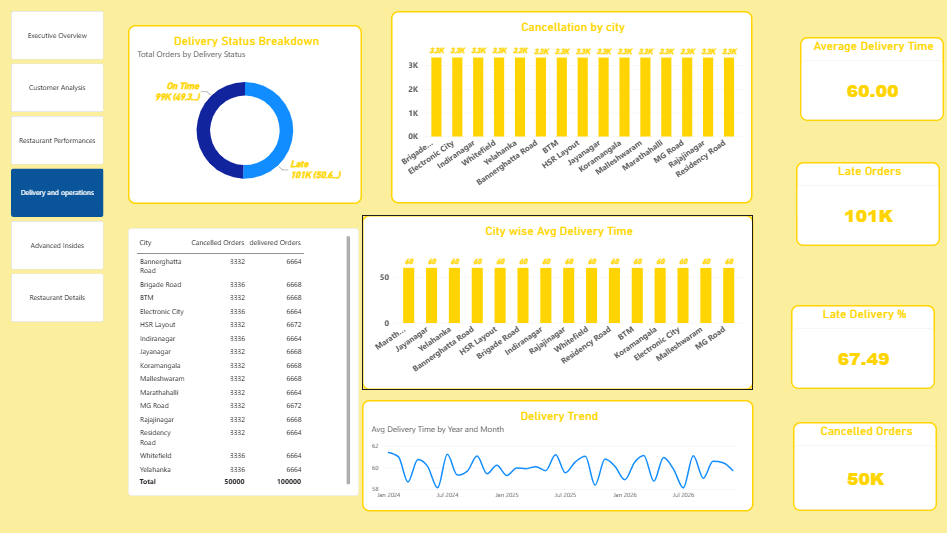

The dashboard page shown, as its layout file describes it:
{"tool":"powerbi","page":{"name":"Delivery  and operations","canvas":[1920,1080],"ordinal":3},"visuals":[{"type":"cardVisual","title":"Average Delivery Time","fields":{"Data":["Orders.Avg Delivery Time"]},"box":[1603.3,73.3,288.3,168.3],"z":0},{"type":"cardVisual","title":"Cancelled Orders","fields":{"Data":["Orders.Cancelled Orders"]},"box":[1590,843.3,288.3,178.3],"z":1000},{"type":"cardVisual","title":"Late Delivery %","fields":{"Data":["Orders.Late Delivery %"]},"box":[1586.7,610,288.3,168.3],"z":2000},{"type":"cardVisual","title":"Late Orders","fields":{"Data":["Orders.Late Orders"]},"box":[1596.7,323.3,288,168],"z":3000},{"type":"pieChart","title":"Delivery Status Breakdown","fields":{"Category":["Orders.Delivery Status"],"Y":["Orders.Total Orders"]},"box":[260,50,467.5,357.5],"z":4000},{"type":"clusteredColumnChart","title":"Cancellation by city","fields":{"Category":["Customers.City"],"Y":["Orders.Cancelled Orders"]},"box":[785,22.5,722.5,385],"z":5000},{"type":"tableEx","fields":{"Values":["Customers.City","Orders.Cancelled Orders","Orders.delivered Orders"]},"box":[260,455,462,536],"z":6000},{"type":"lineChart","title":"Delivery Trend","fields":{"Category":["DateTable.Date.Variation.Date Hierarchy.Year","DateTable.Date.Variation.Date Hierarchy.Month"],"Y":["Orders.Avg Delivery Time"]},"box":[727.5,800,782.5,222.5],"z":7000},{"type":"clusteredColumnChart","title":"City wise Avg Delivery Time","fields":{"Category":["Customers.City"],"Y":["Orders.Avg Delivery Time"]},"box":[727.5,430,782.5,350],"z":8000},{"type":"pageNavigator","box":[25,22.5,185,625],"z":8001}]}

Visuals, with their boxes on the page's 1920x1080 design canvas (x1, y1, x2, y2). These are canvas units, not pixel positions in the 947x533 screenshot, which may show the page scaled, cropped or inside an application window:
"Average Delivery Time" cardVisual: bbox=(1603, 73, 1892, 242)
"Cancelled Orders" cardVisual: bbox=(1590, 843, 1878, 1022)
"Late Delivery %" cardVisual: bbox=(1587, 610, 1875, 778)
"Late Orders" cardVisual: bbox=(1597, 323, 1885, 491)
"Delivery Status Breakdown" pieChart: bbox=(260, 50, 728, 408)
"Cancellation by city" clusteredColumnChart: bbox=(785, 22, 1508, 408)
tableEx - Customers.City x Orders.Cancelled Orders: bbox=(260, 455, 722, 991)
"Delivery Trend" lineChart: bbox=(728, 800, 1510, 1022)
"City wise Avg Delivery Time" clusteredColumnChart: bbox=(728, 430, 1510, 780)
pageNavigator: bbox=(25, 22, 210, 648)
